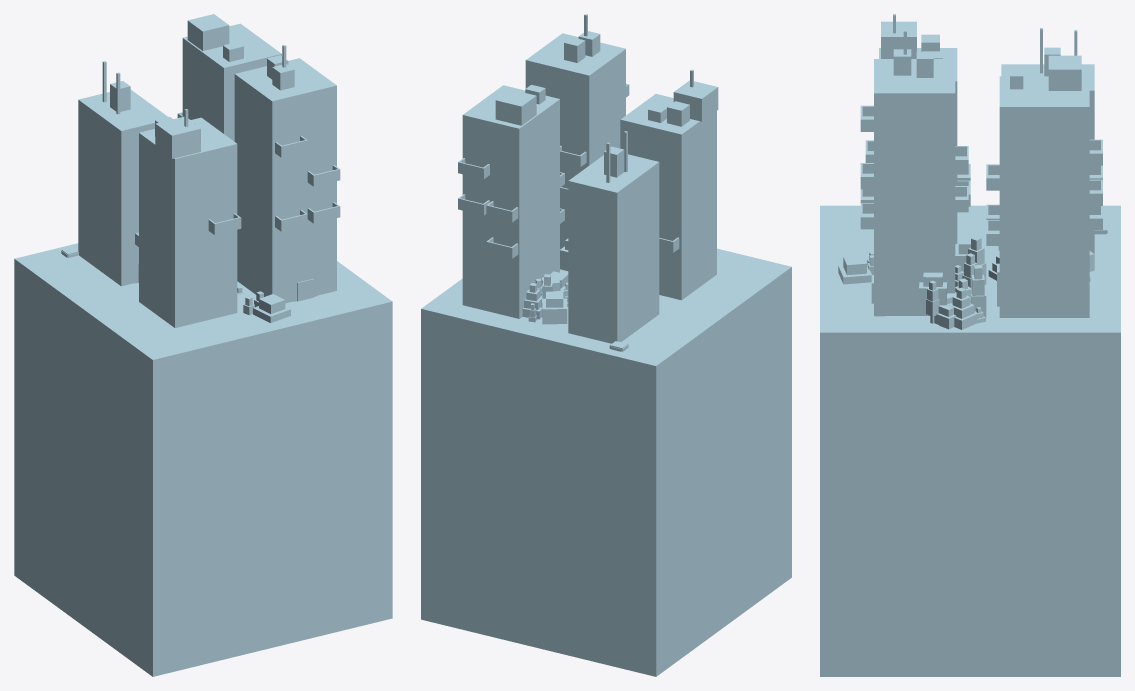
Rendered from block_24_undergroundtanks_100.glb.
3 renders of one model, left to right at view 1: azimuth 30°, elevation 25°; view 2: azimuth 150°, elevation 25°; view 3: azimuth 270°, elevation 25°, orthographic. The views are drawn at different scales.
Parts seen in each view (by area): view 1: Patch_UpperRight_b24_UT, ResidBldgs_b24_UT, Roads_UpperRight_b24_UT, URTree_24_17_UT; view 2: Patch_UpperRight_b24_UT, ResidBldgs_b24_UT, Roads_UpperRight_b24_UT, URTree_24_0_UT; view 3: Patch_UpperRight_b24_UT, ResidBldgs_b24_UT, Green_UpperRight_b24_UT, URTree_24_17_UT, URTree_24_28_UT, URTree_24_25_UT, URTree_24_19_UT.
Boxes of the visible parts, <box> form: Patch_UpperRight_b24_UT: <box>14,243,392,676</box>; ResidBldgs_b24_UT: <box>78,14,340,327</box>; Roads_UpperRight_b24_UT: <box>14,282,392,399</box>; URTree_24_17_UT: <box>253,294,290,322</box>; Patch_UpperRight_b24_UT: <box>421,248,791,676</box>; ResidBldgs_b24_UT: <box>458,14,718,343</box>; Roads_UpperRight_b24_UT: <box>421,302,791,391</box>; URTree_24_0_UT: <box>542,291,567,324</box>; Patch_UpperRight_b24_UT: <box>820,205,1120,676</box>; ResidBldgs_b24_UT: <box>860,14,1102,317</box>; Green_UpperRight_b24_UT: <box>885,281,992,330</box>; URTree_24_17_UT: <box>838,255,871,284</box>; URTree_24_28_UT: <box>948,287,978,329</box>; URTree_24_25_UT: <box>919,272,947,305</box>; URTree_24_19_UT: <box>971,265,986,317</box>.
Bounding box in the file's own units: 9.5 × 21.24 × 9.5.
